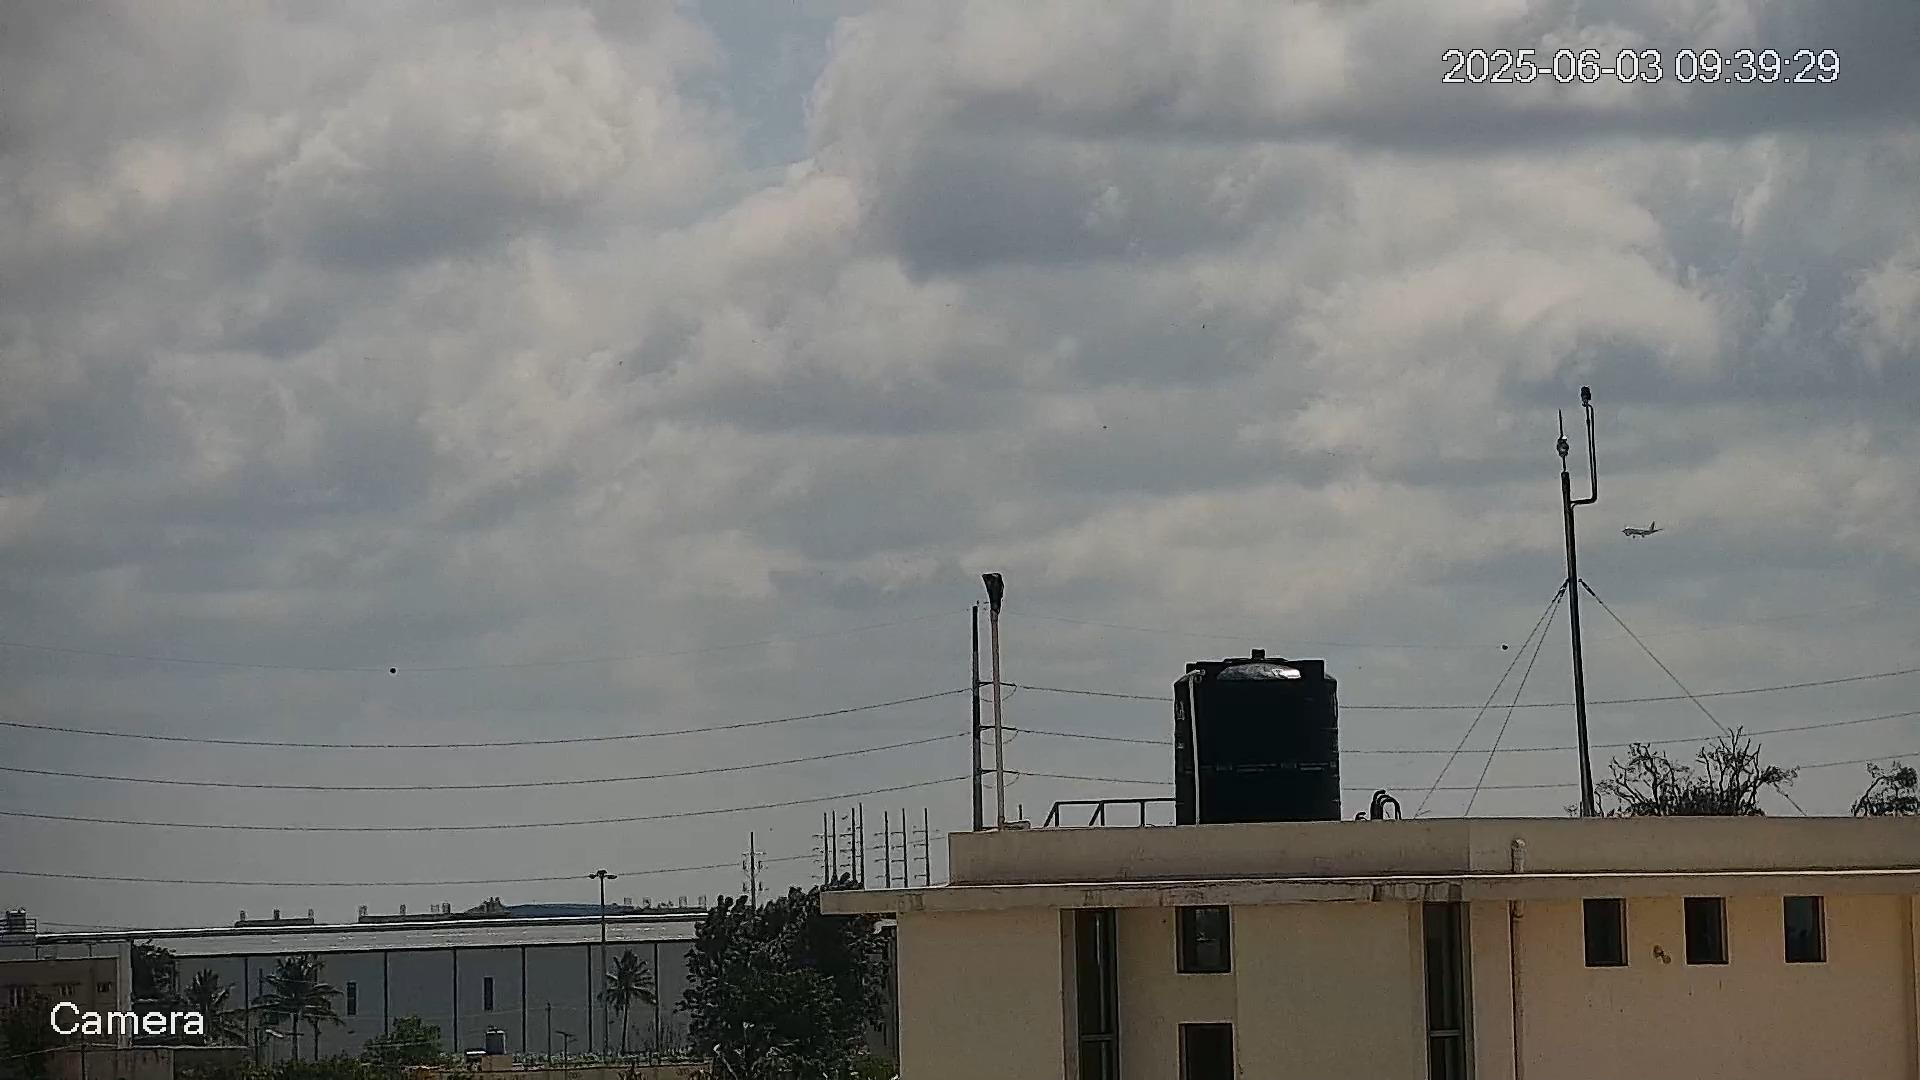Aircraft: (1621, 521, 1662, 539)
